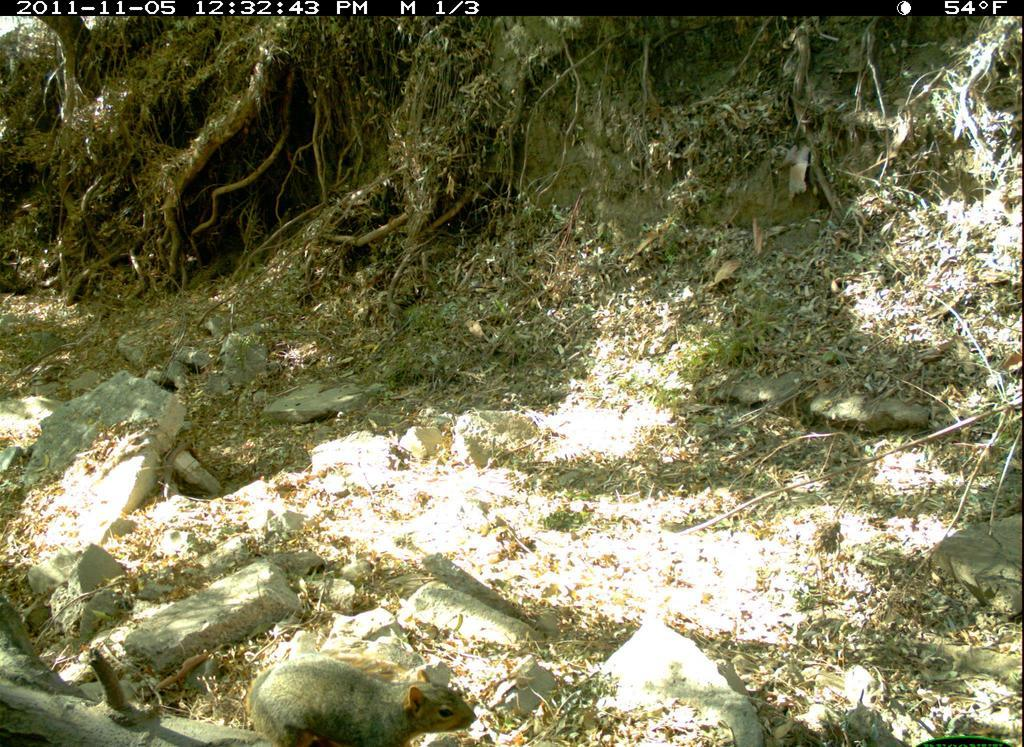squirrel: (251, 644, 482, 747)
